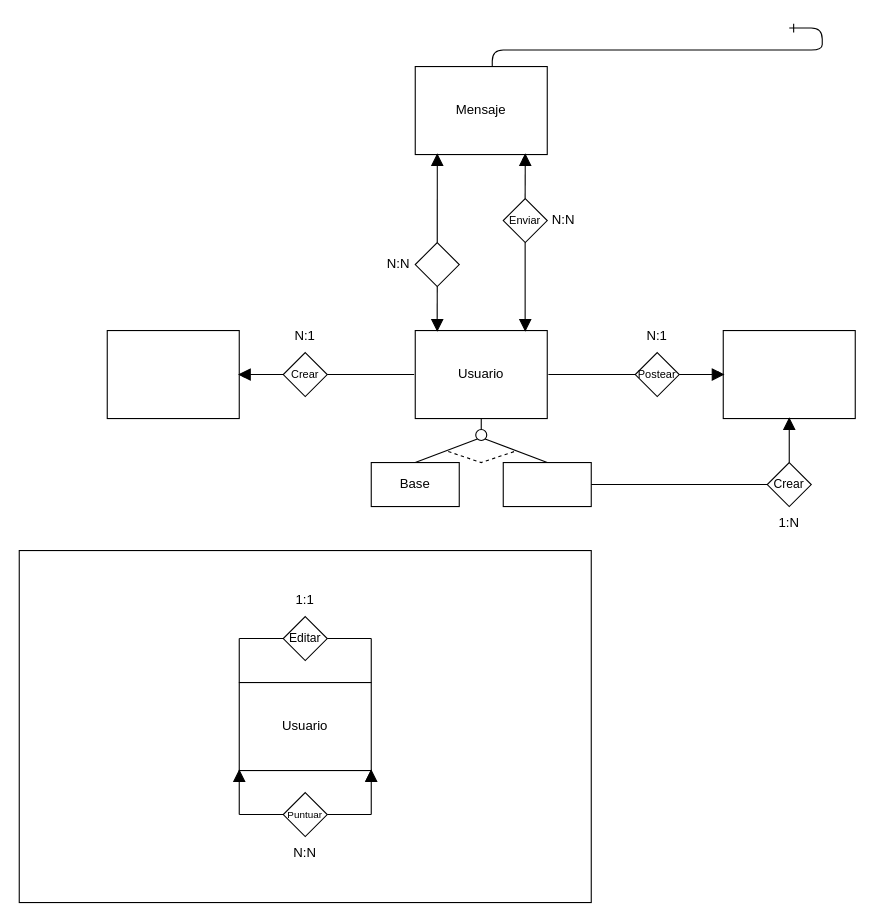
The diagram is 875 pixels wide and 922 high, and some of its shapes have lost their labels. The centre of each missing label's shape, as x and y in pixels:
"Administrador" goes at [546,484].
"Grupo" goes at [172,374].
"Hilo" goes at [788,374].
"Recibir" goes at [436,264].
